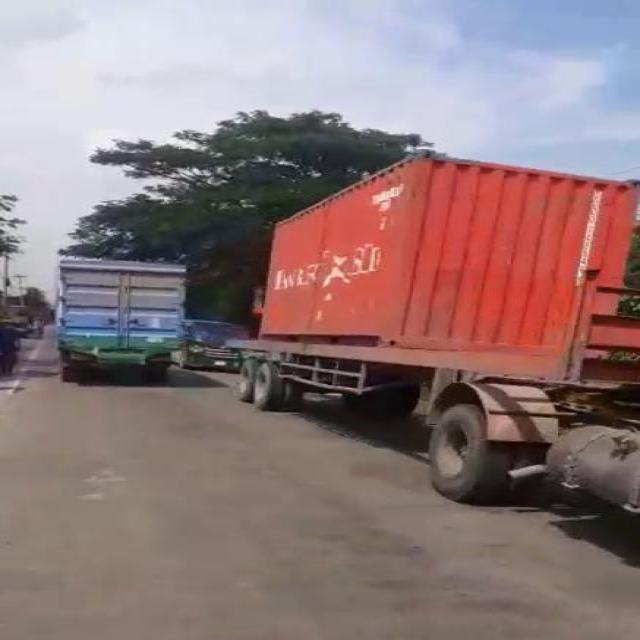truck: (239, 156, 637, 516), (52, 261, 175, 376), (179, 319, 249, 369)
